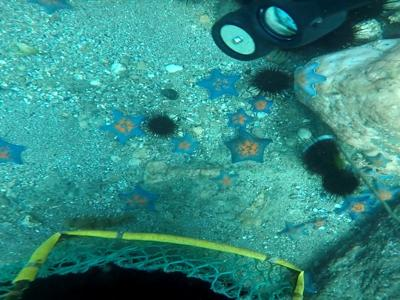urchin: (295, 134, 337, 173), (253, 66, 291, 93), (320, 171, 358, 198), (146, 114, 180, 139)
